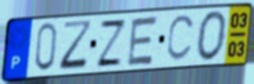0: (33, 21, 59, 75)
C: (165, 13, 197, 64)
E: (125, 14, 161, 68)
O: (195, 10, 229, 64)
Z: (58, 18, 95, 72), (94, 19, 129, 68)
